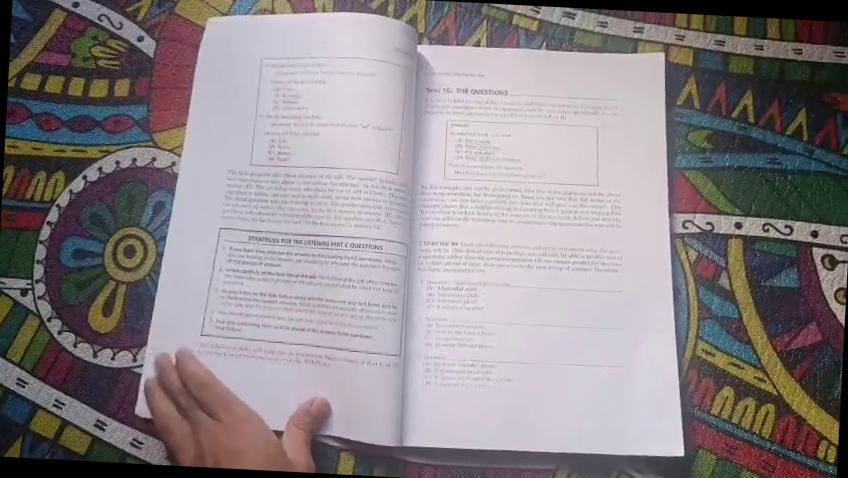Kertas: (364, 46, 664, 448), (190, 36, 436, 350)
